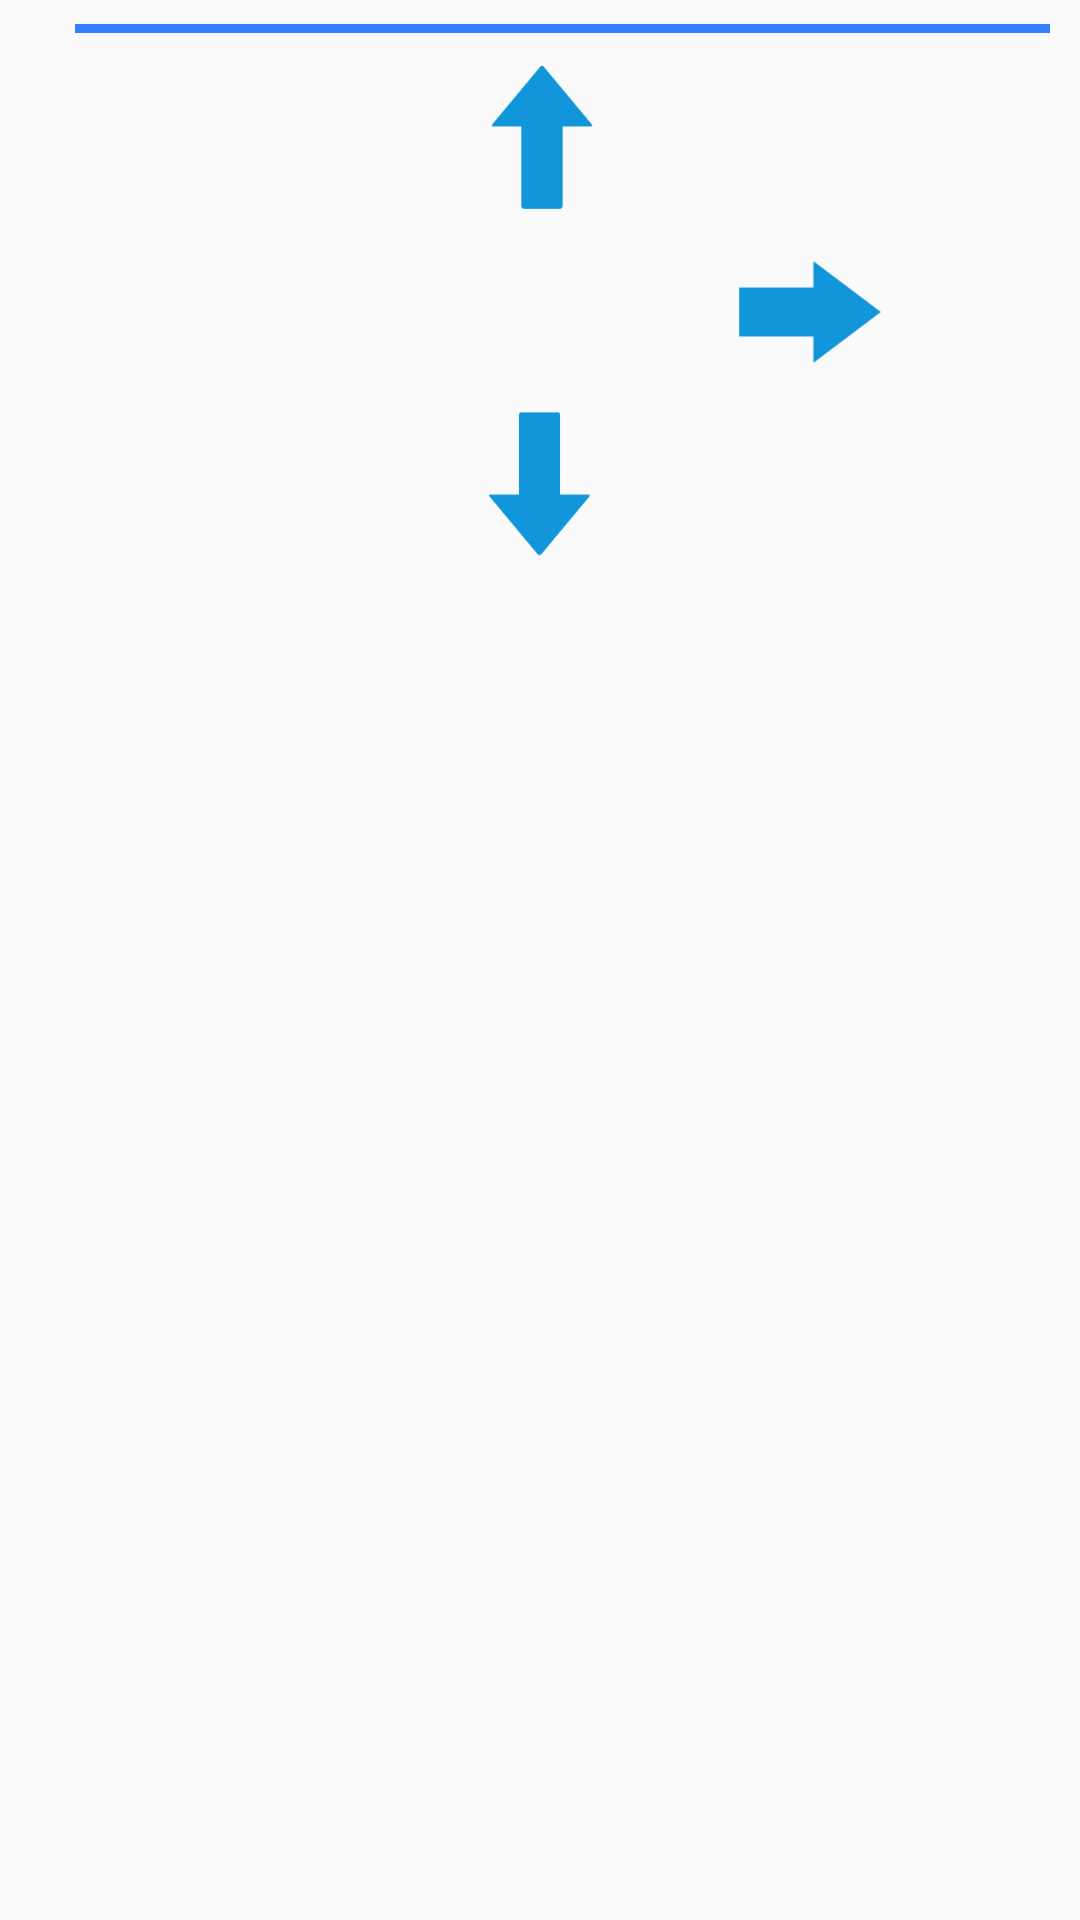

Named icons in this screenshot (1080*1920) and their bounding boxes, [left=x1, top=y1, right=x2, bottom=y2]:
down: [left=489, top=412, right=590, bottom=556]
right: [left=739, top=261, right=881, bottom=363]
